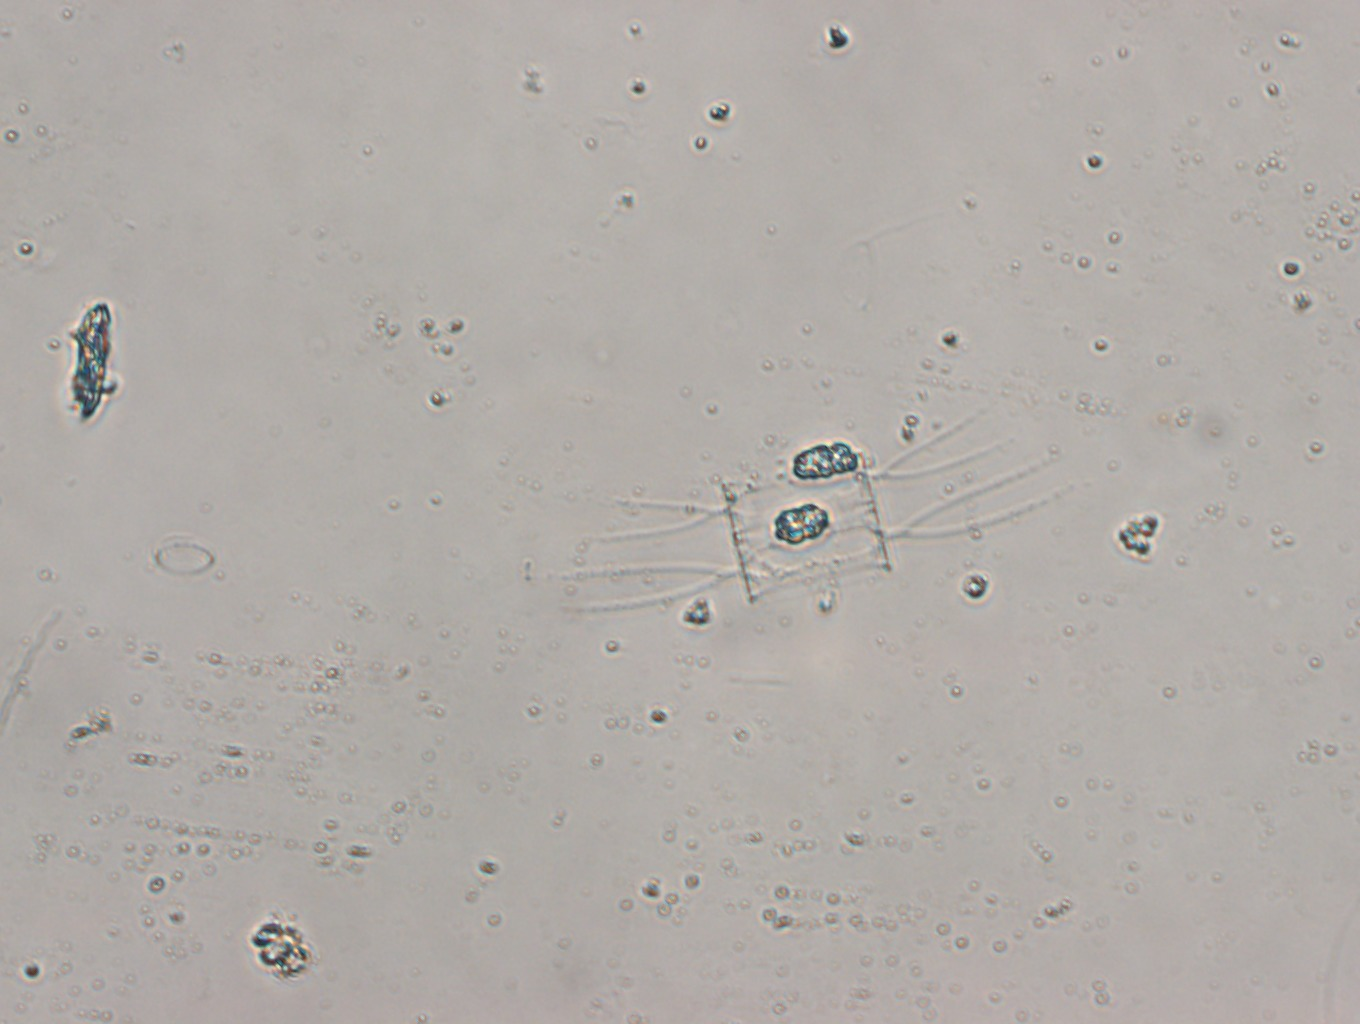chaetoceros: (560, 395, 1060, 617)
